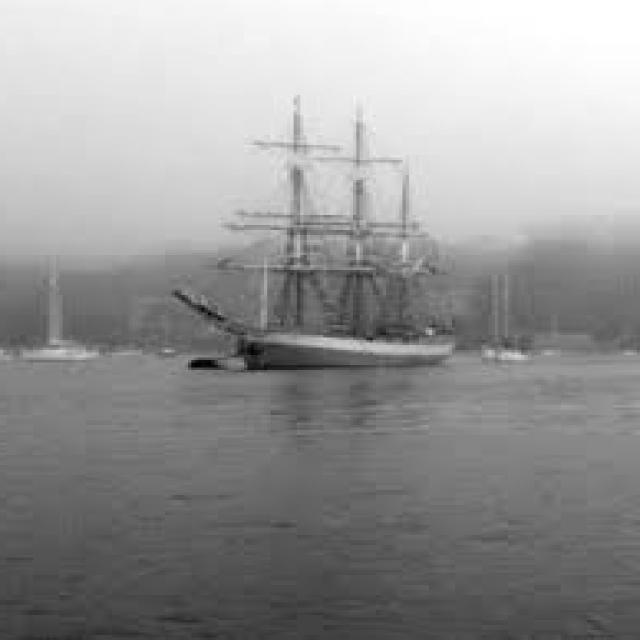fishing boat: (185, 91, 474, 373)
